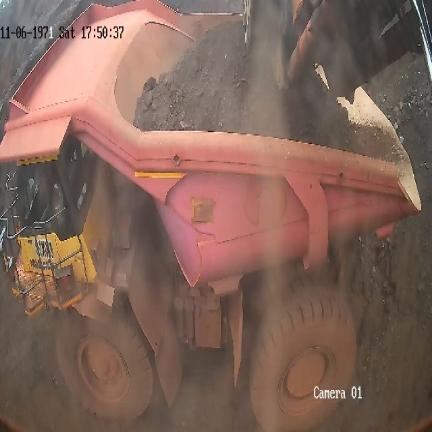pile: (138, 19, 353, 150), (334, 206, 432, 367)
